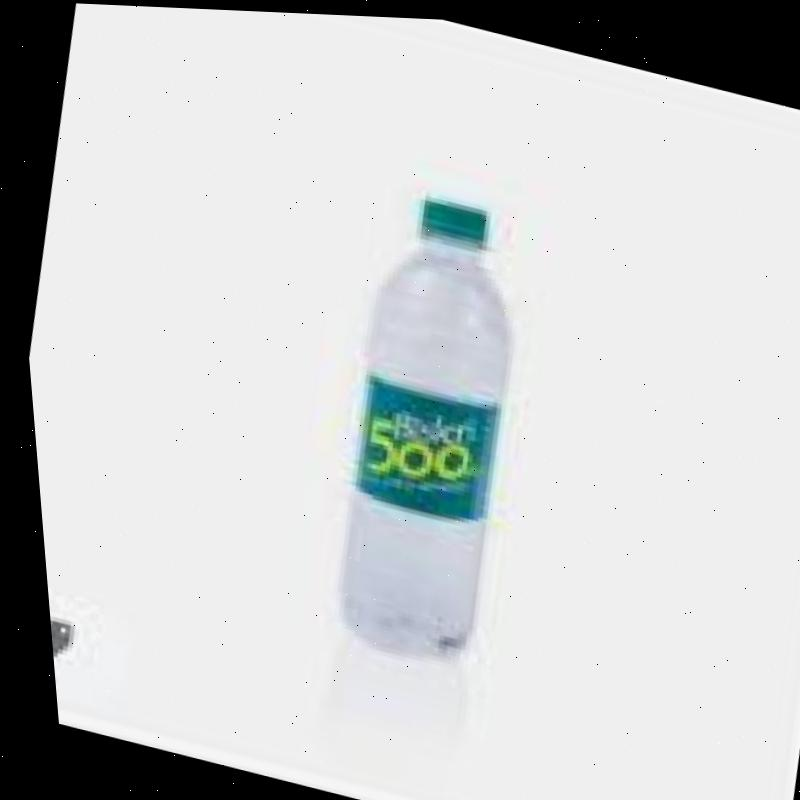botella: (286, 176, 557, 675)
